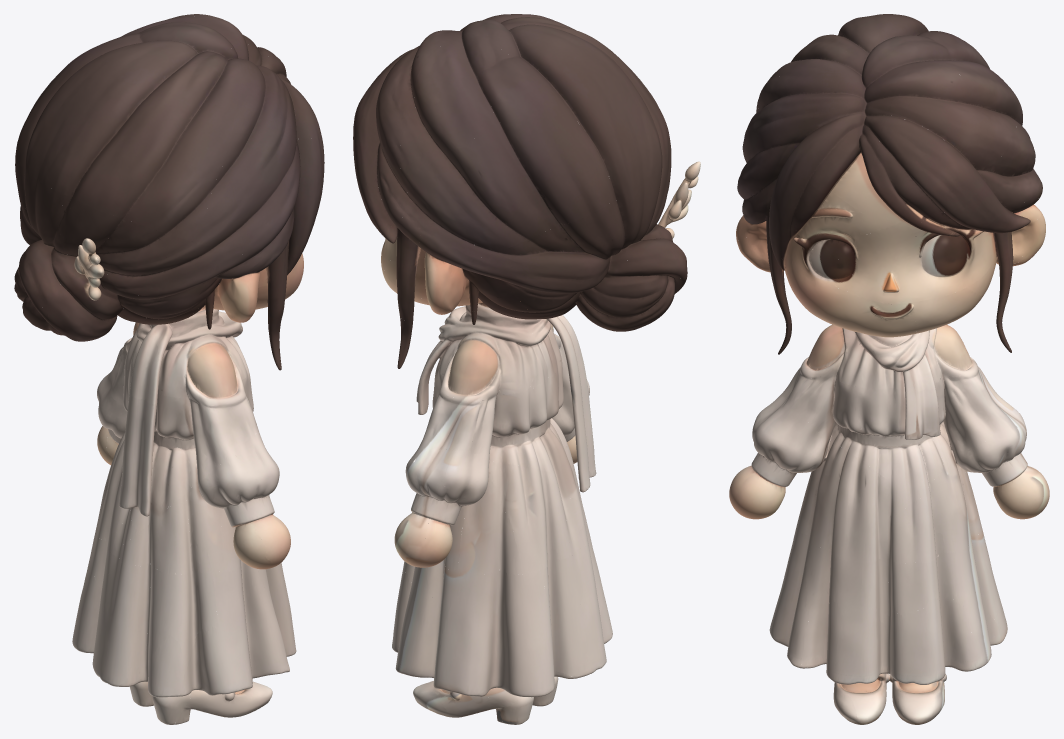
Rendered from lady.glb.
The picture shows the model from 3 angles, left to right: view 1: azimuth 30°, elevation 25°; view 2: azimuth 150°, elevation 25°; view 3: azimuth 270°, elevation 25°; orthographic projection. The views are drawn at different scales.
Visible parts, largest first — view 1: tripo_node_681422fe-9821-473c-b143-540123224bb0; view 2: tripo_node_681422fe-9821-473c-b143-540123224bb0; view 3: tripo_node_681422fe-9821-473c-b143-540123224bb0.
Boxes of the visible parts, x1,y1,x2,y2 form: tripo_node_681422fe-9821-473c-b143-540123224bb0: (14,14,324,724); tripo_node_681422fe-9821-473c-b143-540123224bb0: (353,14,700,724); tripo_node_681422fe-9821-473c-b143-540123224bb0: (729,14,1049,724).
Size of the model in its own units: 0.4468 by 1 by 0.4434.
1 material, 1 textured.
